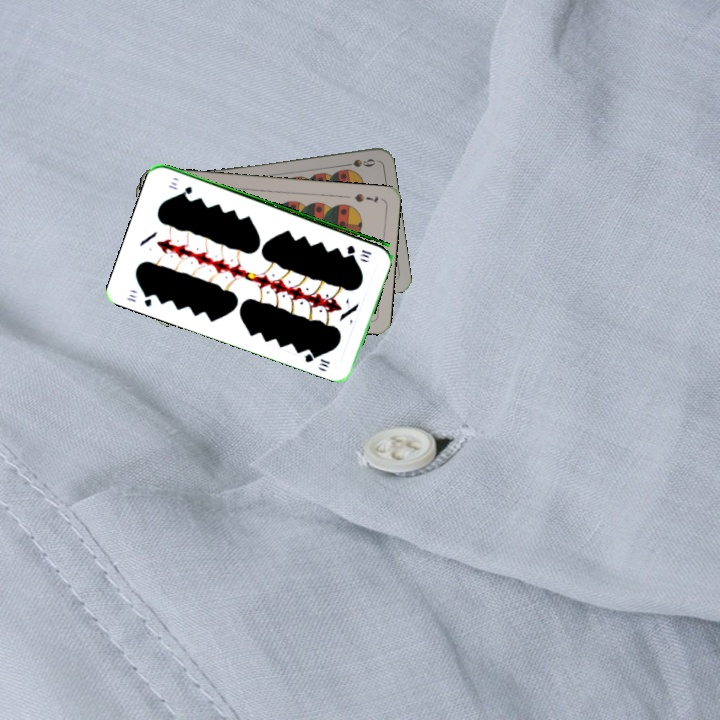G10: (123, 288, 156, 309), (343, 241, 374, 261)
S7: (350, 189, 381, 205)
S9: (337, 154, 378, 170)
